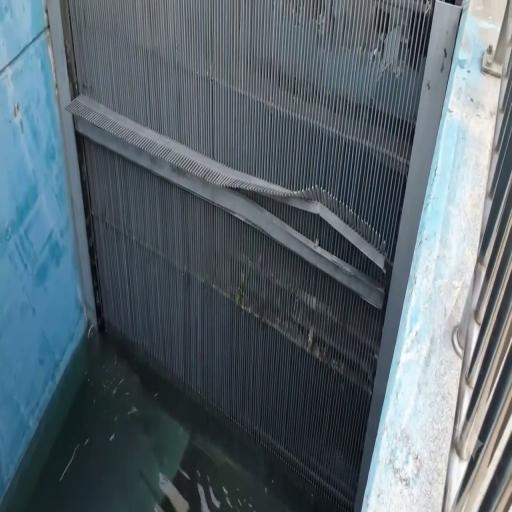rake_broken: (217, 178, 392, 295)
